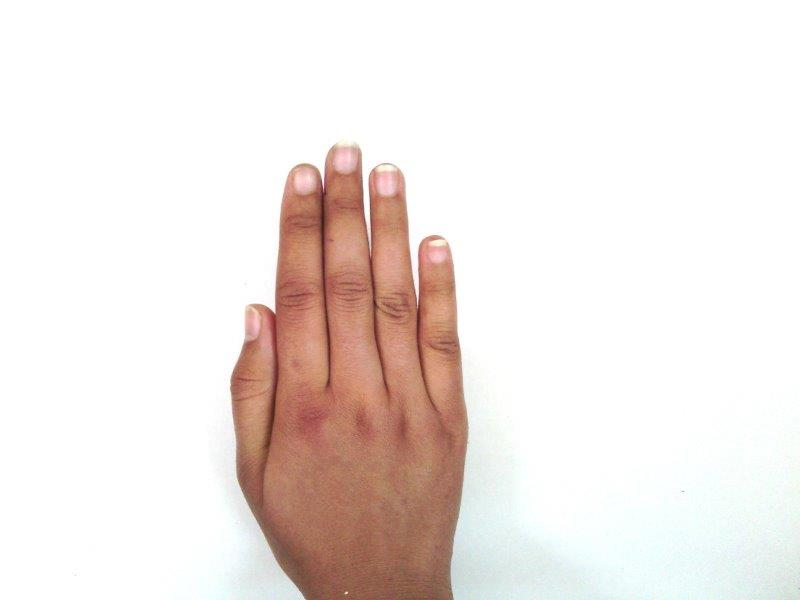hand: (229, 140, 467, 589)
